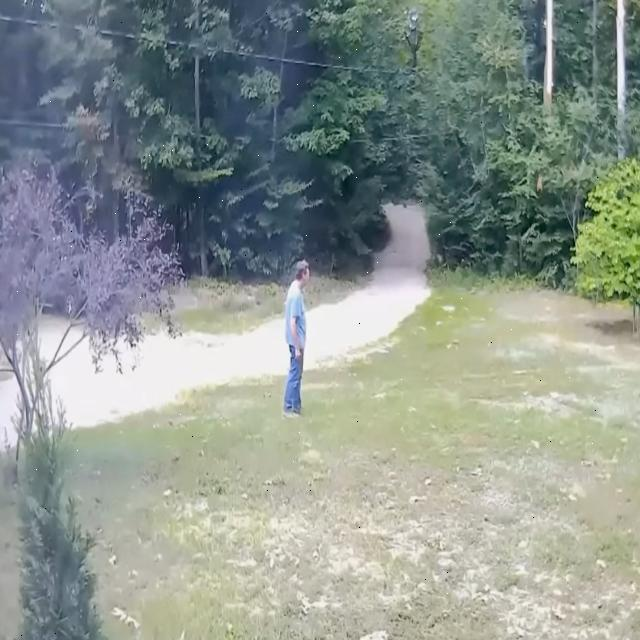standing: (283, 260, 309, 416)
